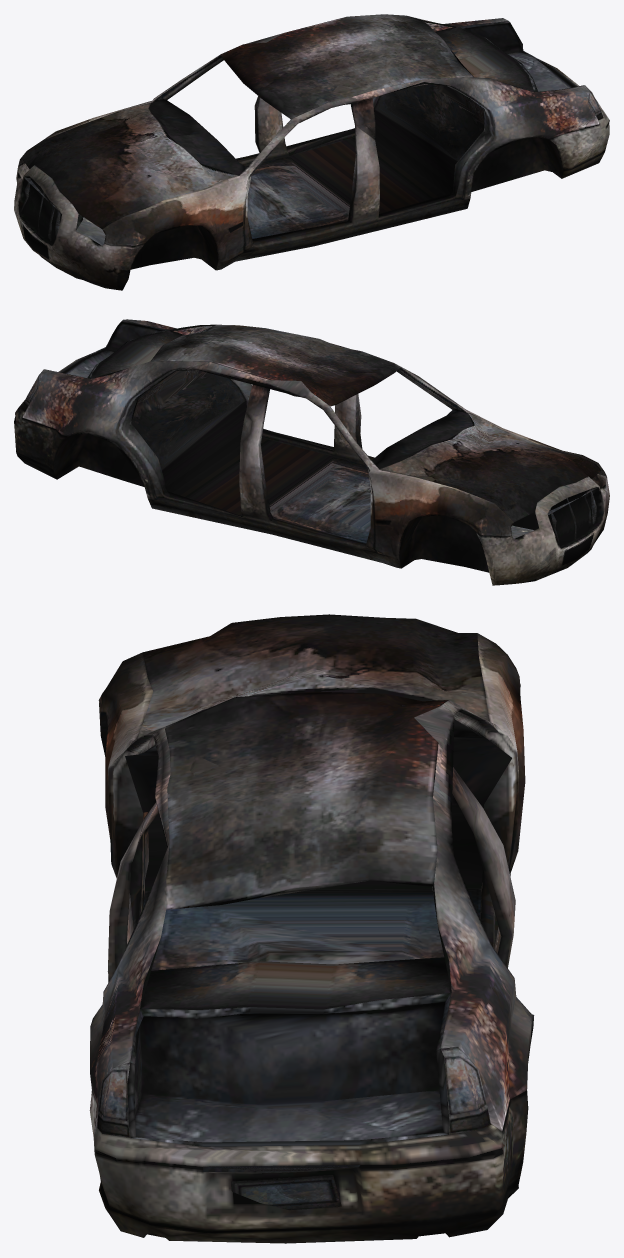
Rendered from damaget car 3.FBX.
3 views of the same model, one above another, from view 1: azimuth 30°, elevation 25°; view 2: azimuth 150°, elevation 25°; view 3: azimuth 270°, elevation 25° (orthographic). The views are drawn at different scales.
Visible parts, largest first — view 1: STR_Sedan_01_Wrecked_SM; view 2: STR_Sedan_01_Wrecked_SM; view 3: STR_Sedan_01_Wrecked_SM.
Boxes of the visible parts, left/top/right/bottom form: STR_Sedan_01_Wrecked_SM: left=14, top=14, right=609, bottom=290; STR_Sedan_01_Wrecked_SM: left=14, top=319, right=609, bottom=585; STR_Sedan_01_Wrecked_SM: left=89, top=614, right=534, bottom=1243.
Size of the model in its own units: 288 by 77.08 by 102.
